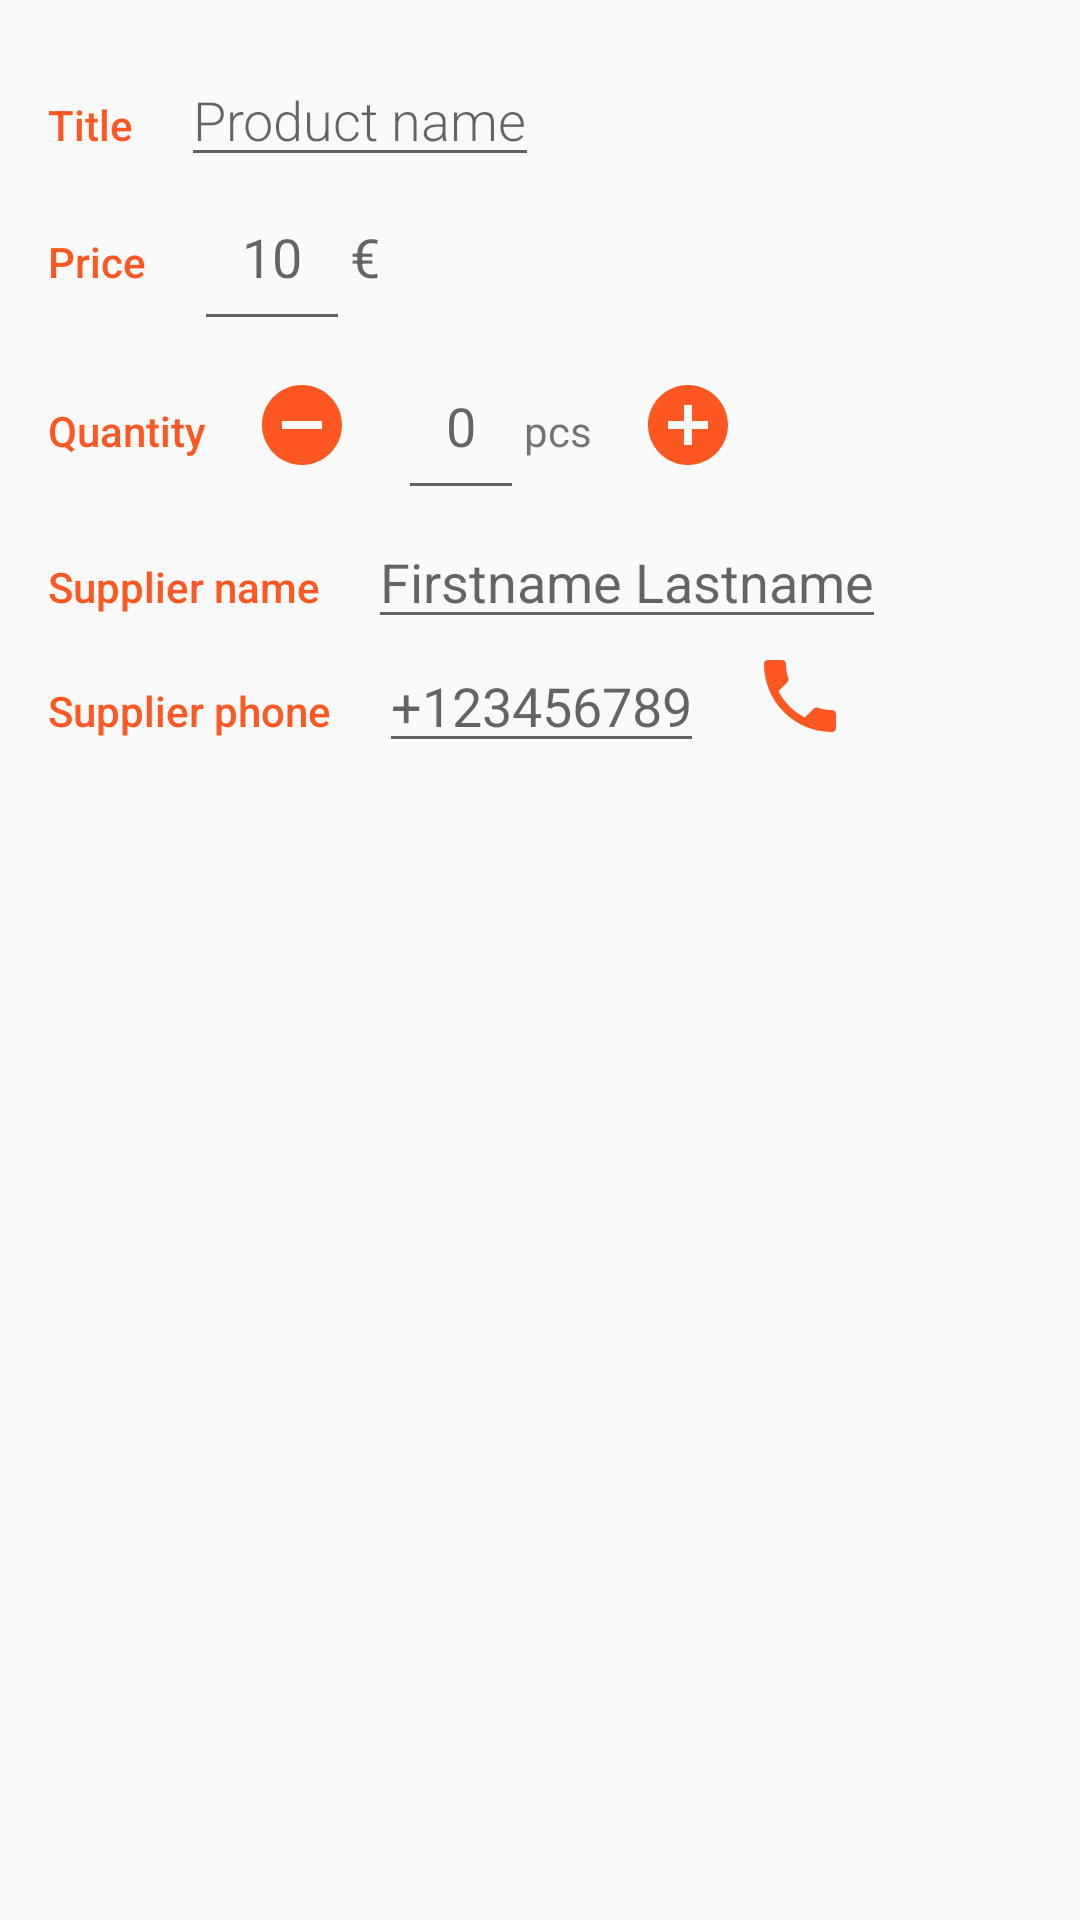

Icon click points for this 1080w x 1920h phone screenshot, format [x,y]:
Button with a minus sign: [302,425]
Button with a plus sign: [688,425]
Button with phone sign: [800,696]
